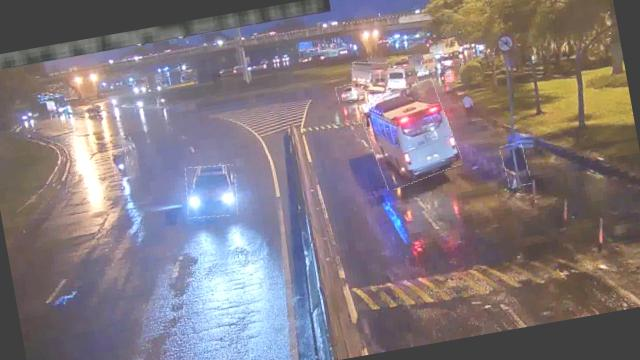Bike: (501, 141, 532, 188), (110, 149, 132, 180)
Bus: (359, 79, 462, 190), (384, 65, 417, 90)
Car: (183, 161, 242, 221), (336, 82, 366, 103)
Truck: (348, 58, 392, 96)
